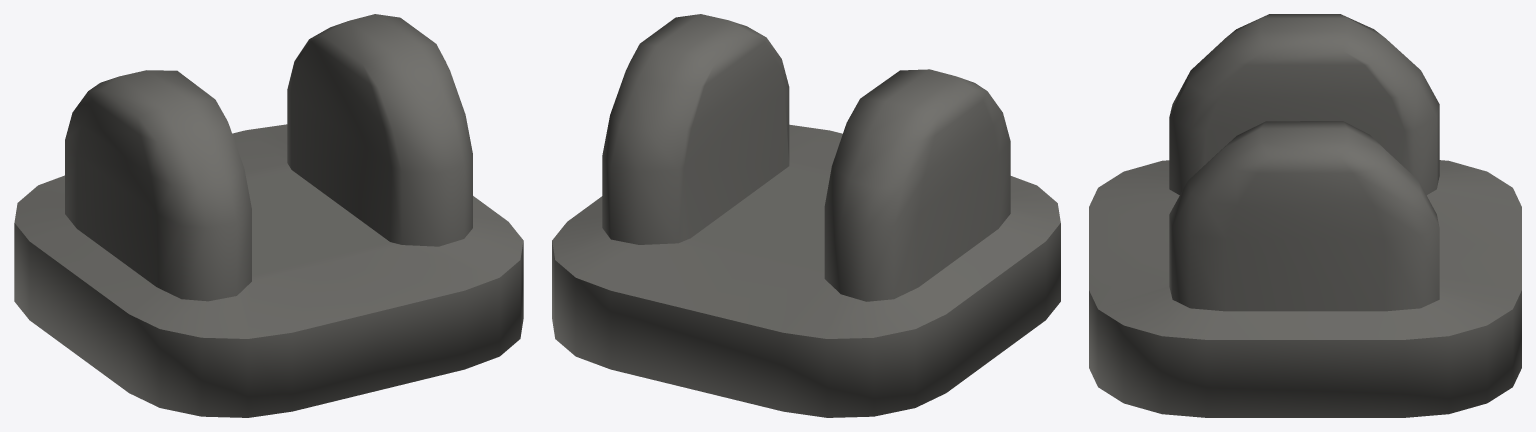
File: SM_LeverHolder.fbx
3 views of the same model, side by side, from view 1: azimuth 30°, elevation 25°; view 2: azimuth 150°, elevation 25°; view 3: azimuth 270°, elevation 25° (orthographic).
Visible parts, largest first — view 1: SM_LeverHolder; view 2: SM_LeverHolder; view 3: SM_LeverHolder.
Boxes of the visible parts, x1,y1,x2,y2 form: SM_LeverHolder: [14, 14, 523, 417]; SM_LeverHolder: [552, 14, 1060, 417]; SM_LeverHolder: [1089, 14, 1521, 417].
Size of the model in its own units: 0.1391 by 0.0873 by 0.1391.
